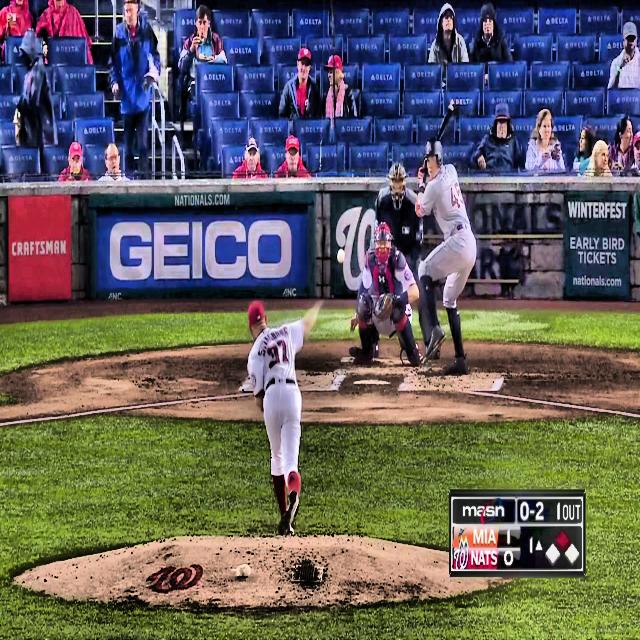baseball: (337, 248, 345, 264)
